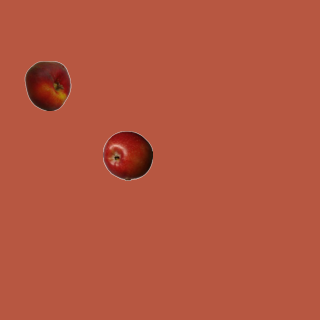Apple Braeburn: (102, 130, 152, 180)
Nectarine Flat: (22, 60, 72, 110)
